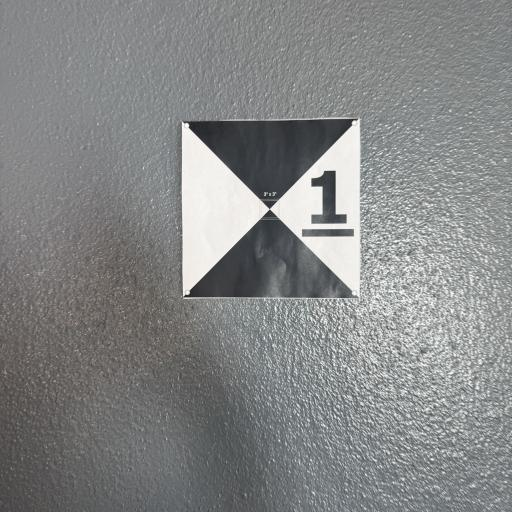target1: (179, 116, 363, 306)
